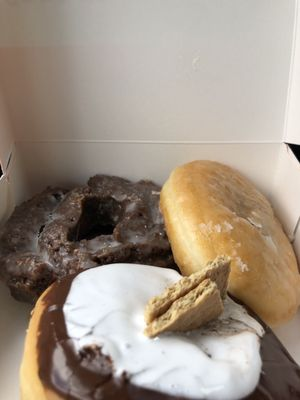salad: (159, 160, 300, 328), (35, 175, 174, 284), (0, 184, 79, 303)
